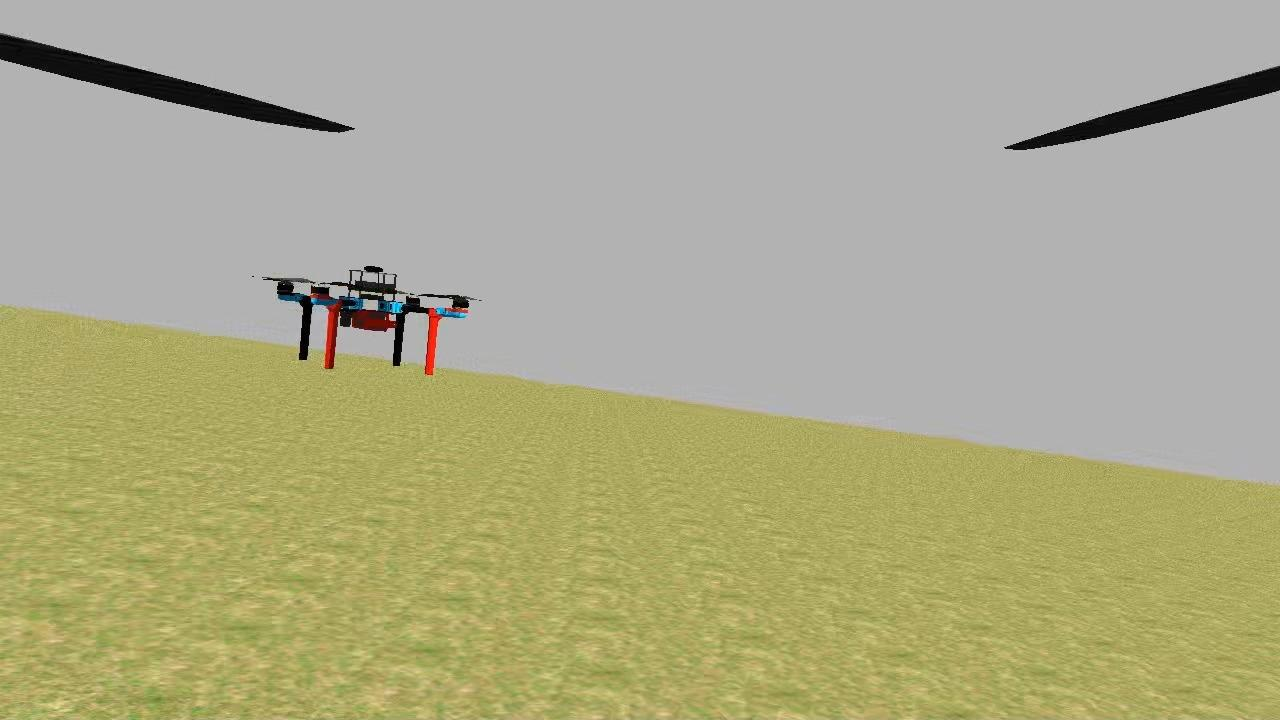UAV: (267, 260, 476, 378)
